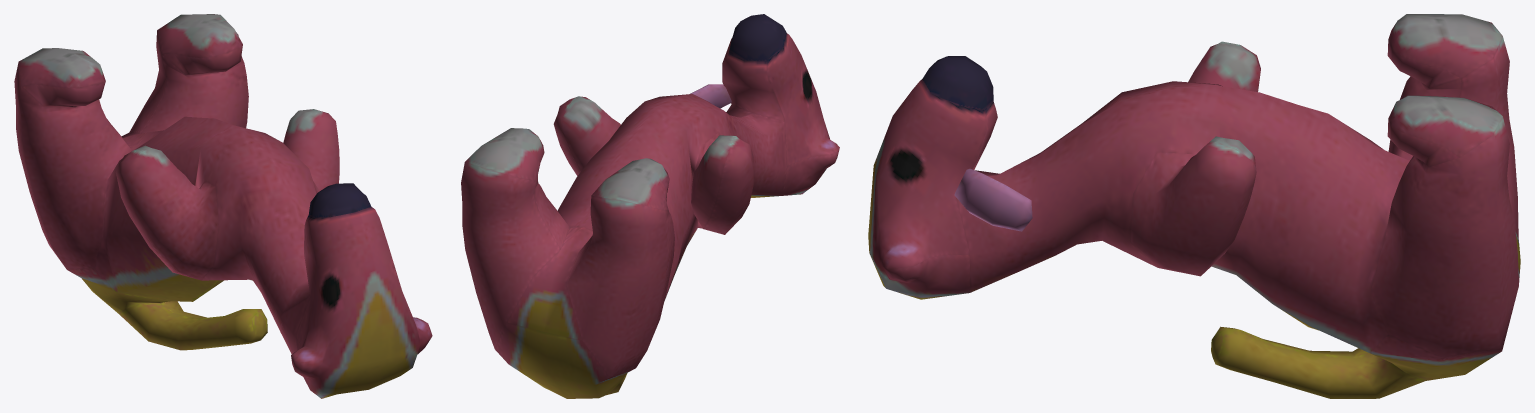
The model's file is toy_honeybadger_LOD0.obj.
The picture shows the model from 3 angles, left to right: view 1: azimuth 30°, elevation 25°; view 2: azimuth 150°, elevation 25°; view 3: azimuth 270°, elevation 25°; orthographic projection. The views are drawn at different scales.
Visible parts, largest first — view 1: mtl_honeybadger_toy; view 2: mtl_honeybadger_toy; view 3: mtl_honeybadger_toy.
Boxes of the visible parts, x1,y1,x2,y2 form: mtl_honeybadger_toy: [14, 14, 432, 398]; mtl_honeybadger_toy: [461, 14, 839, 398]; mtl_honeybadger_toy: [868, 14, 1520, 398].
Bounding box in the file's own units: 24.23 × 30.2 × 52.47.
